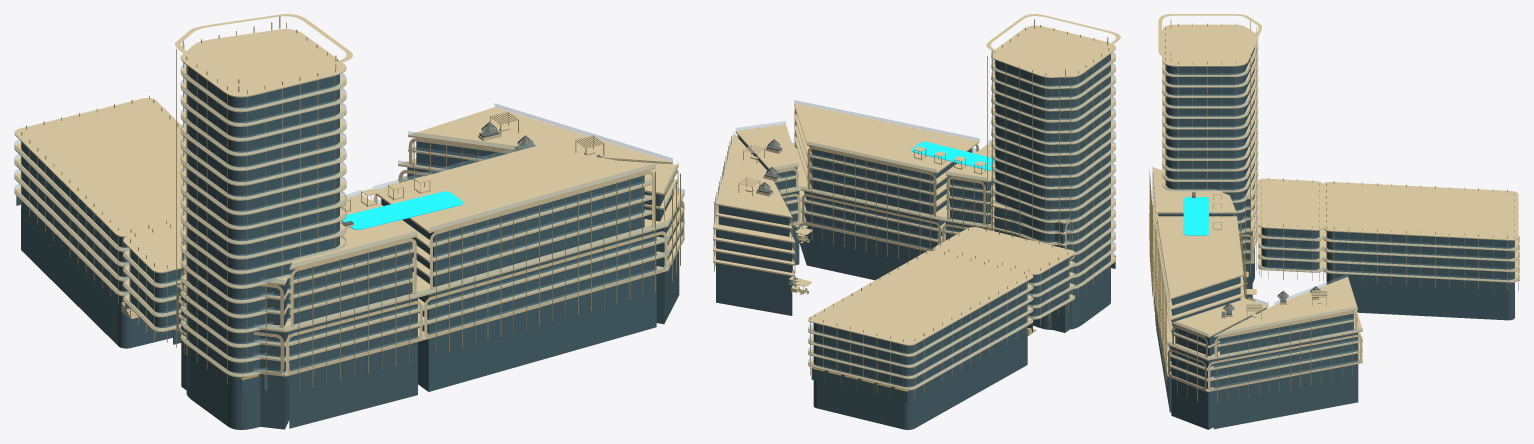
The model's file is mercury-suites.glb.
The picture shows the model from 3 angles, left to right: view 1: azimuth 30°, elevation 25°; view 2: azimuth 150°, elevation 25°; view 3: azimuth 270°, elevation 25°; orthographic projection. The views are drawn at different scales.
Parts seen in each view (by area): view 1: Poolfluegel Ost, Suites-Turm am Kreisel, Verbindung zum Mercury, Poolfluegel West, Endfluegel, Durchgang am Kreisel, Eckstueck West, Eckstueck Ost, Kreisel-Fluegel; view 2: Verbindung zum Mercury, Suites-Turm am Kreisel, Poolfluegel Ost, Endfluegel, Durchgang am Kreisel, Eckstueck Ost, Poolfluegel West, Kreisel-Fluegel; view 3: Verbindung zum Mercury, Suites-Turm am Kreisel, Endfluegel, Poolfluegel Ost, Durchgang am Kreisel, Eckstueck Ost, Poolfluegel West, Kreisel-Fluegel.
Boxes of the visible parts, left/top/right/bottom form: Poolfluegel Ost: left=340, top=142, right=668, bottom=391; Suites-Turm am Kreisel: left=173, top=14, right=352, bottom=429; Verbindung zum Mercury: left=14, top=95, right=186, bottom=348; Poolfluegel West: left=285, top=190, right=423, bottom=428; Endfluegel: left=398, top=103, right=684, bottom=237; Durchgang am Kreisel: left=121, top=223, right=186, bottom=342; Eckstueck West: left=254, top=274, right=290, bottom=429; Eckstueck Ost: left=617, top=160, right=684, bottom=324; Kreisel-Fluegel: left=177, top=238, right=186, bottom=390; Verbindung zum Mercury: left=808, top=249, right=1033, bottom=429; Suites-Turm am Kreisel: left=986, top=14, right=1120, bottom=329; Poolfluegel Ost: left=792, top=100, right=994, bottom=280; Endfluegel: left=713, top=132, right=811, bottom=315; Durchgang am Kreisel: left=933, top=225, right=1075, bottom=335; Eckstueck Ost: left=735, top=121, right=801, bottom=265; Poolfluegel West: left=941, top=140, right=994, bottom=242; Kreisel-Fluegel: left=991, top=199, right=1074, bottom=332; Verbindung zum Mercury: left=1323, top=181, right=1519, bottom=320; Suites-Turm am Kreisel: left=1158, top=14, right=1261, bottom=282; Endfluegel: left=1207, top=274, right=1362, bottom=429; Poolfluegel Ost: left=1153, top=190, right=1246, bottom=412; Durchgang am Kreisel: left=1258, top=178, right=1322, bottom=280; Eckstueck Ost: left=1167, top=296, right=1268, bottom=429; Poolfluegel West: left=1149, top=167, right=1256, bottom=325; Kreisel-Fluegel: left=1239, top=180, right=1254, bottom=299.
Bounding box in the file's own units: 112 × 75.8 × 102.
